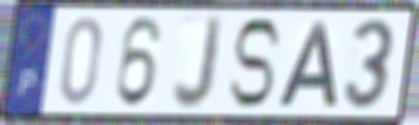0: (57, 15, 105, 108)
3: (341, 16, 399, 112)
6: (113, 14, 164, 110)
A: (274, 18, 339, 108)
J: (169, 12, 227, 113)
S: (225, 16, 284, 111)
